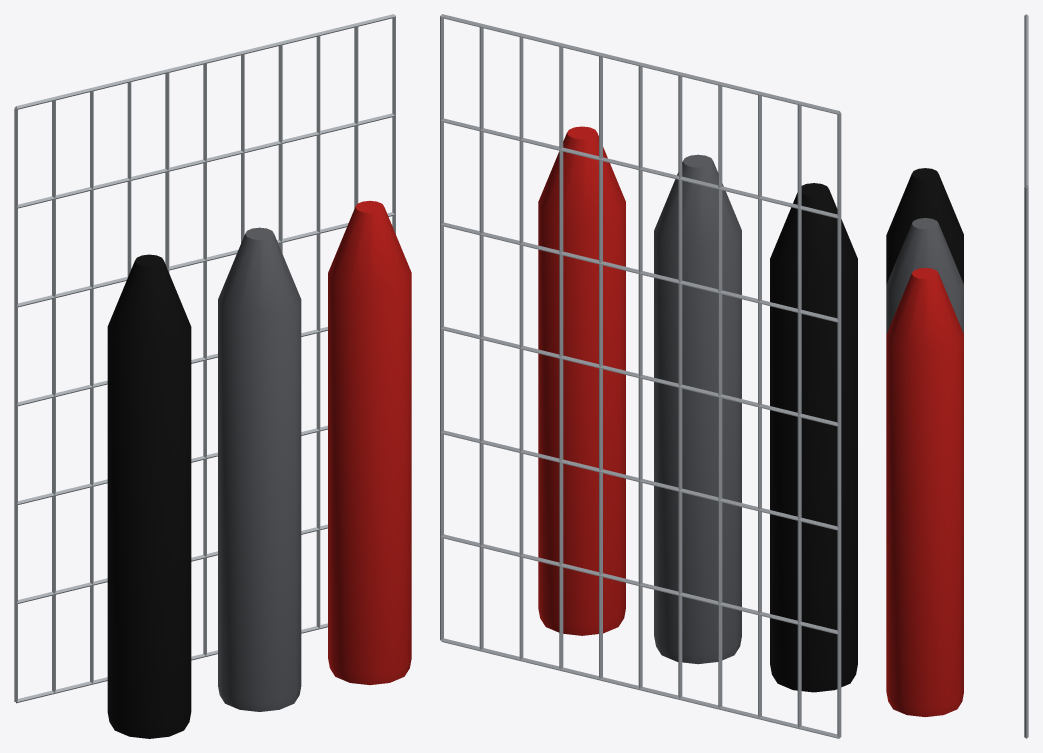
The model's file is school.lab.gas_cage.glb.
3 views of the same model, side by side, from view 1: azimuth 30°, elevation 25°; view 2: azimuth 150°, elevation 25°; view 3: azimuth 270°, elevation 25° (orthographic). The views are drawn at different scales.
Parts seen in each view (by area): view 1: main__plastic_black, main__plastic_grey, main__hazard_red, main__steel_galvanised; view 2: main__steel_galvanised, main__plastic_black, main__plastic_grey, main__hazard_red; view 3: main__hazard_red, main__plastic_black, main__plastic_grey, main__steel_galvanised.
Boxes of the visible parts, x1,y1,x2,y2 form: main__plastic_black: [107, 254, 191, 738]; main__plastic_grey: [218, 227, 301, 711]; main__hazard_red: [328, 200, 411, 685]; main__steel_galvanised: [14, 14, 395, 703]; main__steel_galvanised: [440, 14, 841, 738]; main__plastic_black: [770, 183, 857, 692]; main__plastic_grey: [654, 154, 741, 664]; main__hazard_red: [538, 126, 625, 635]; main__hazard_red: [886, 268, 963, 717]; main__plastic_black: [886, 168, 963, 284]; main__plastic_grey: [886, 218, 963, 334]; main__steel_galvanised: [1024, 14, 1028, 738].
Bounding box in the file's own units: 1.21 × 1.81 × 0.421.
